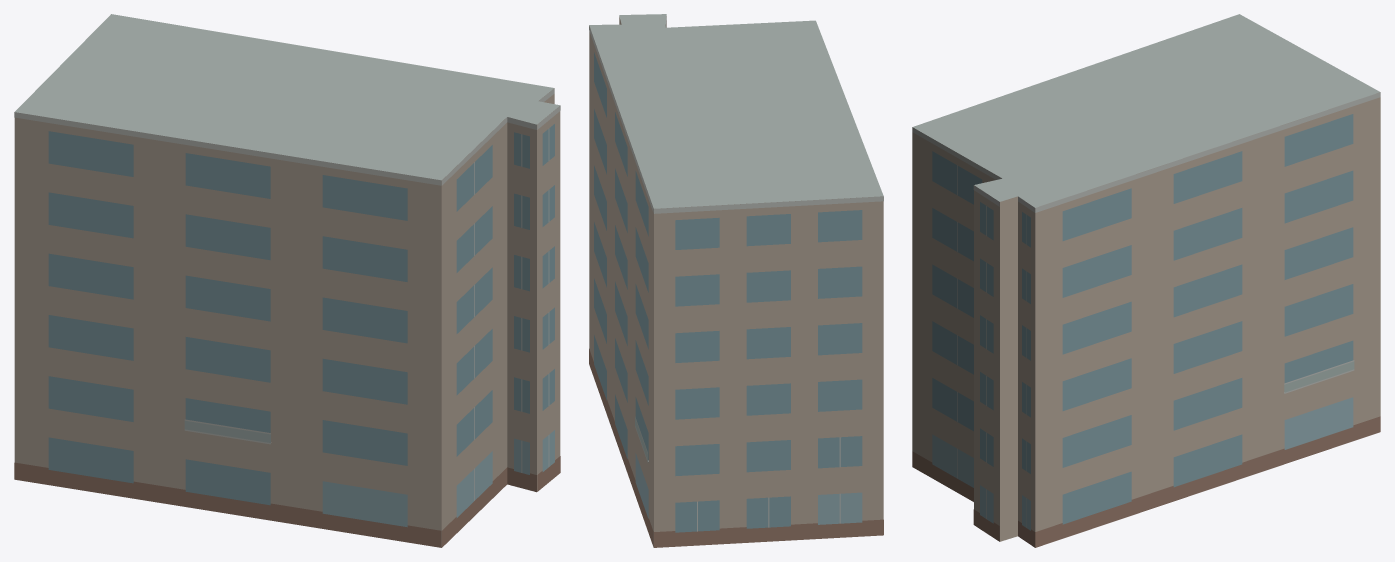
The model's file is survey-upis-32749120.glb.
The picture shows the model from 3 angles, left to right: view 1: azimuth 30°, elevation 25°; view 2: azimuth 150°, elevation 25°; view 3: azimuth 270°, elevation 25°; orthographic projection. The views are drawn at different scales.
Visible parts, largest first — view 1: survey-upis-32749120.tmp; view 2: survey-upis-32749120.tmp; view 3: survey-upis-32749120.tmp.
Boxes of the visible parts, box(x1,y1,x2,y2) form: survey-upis-32749120.tmp: box(14, 14, 560, 547); survey-upis-32749120.tmp: box(589, 14, 883, 547); survey-upis-32749120.tmp: box(912, 14, 1380, 547).
Bounding box in the file's own units: 20.08 × 16.4 × 20.48.
